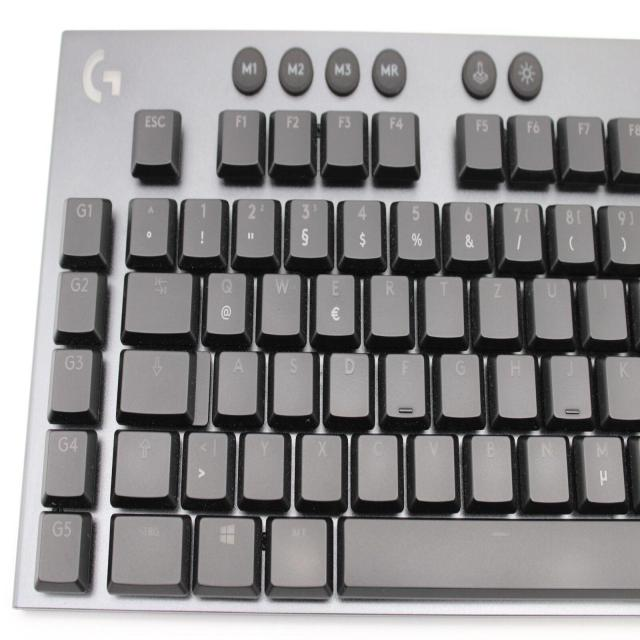1: (179, 193, 222, 257)
2: (233, 193, 276, 258)
3: (285, 194, 329, 259)
4: (340, 194, 383, 259)
5: (393, 195, 438, 261)
6: (446, 196, 490, 261)
7: (500, 198, 542, 262)
8: (552, 198, 595, 264)
9: (606, 200, 638, 264)
a: (216, 346, 259, 415)
alt-left: (267, 513, 330, 590)
b: (469, 429, 514, 501)
c: (355, 429, 400, 501)
caret: (127, 192, 169, 256)
d: (326, 347, 370, 417)
e: (314, 270, 356, 336)
f: (382, 349, 427, 419)
g: (438, 348, 481, 417)
h: (494, 350, 537, 418)
i: (585, 273, 627, 339)
j: (548, 350, 591, 420)
k: (604, 351, 638, 419)
keyboard: (11, 24, 639, 620)
less: (184, 426, 229, 498)
m: (581, 430, 626, 504)
n: (525, 431, 570, 503)
q: (203, 267, 247, 335)
r: (369, 271, 411, 337)
s: (270, 347, 314, 416)
shift-left: (111, 426, 174, 498)
shift-lock: (116, 346, 191, 415)
space: (339, 512, 636, 590)
strg-left: (107, 510, 186, 588)
t: (424, 272, 465, 337)
tab: (122, 267, 195, 333)
u: (531, 272, 573, 339)
v: (412, 429, 457, 501)
w: (259, 269, 301, 335)
x: (299, 429, 344, 502)
y: (241, 427, 285, 501)
z: (478, 273, 519, 339)
